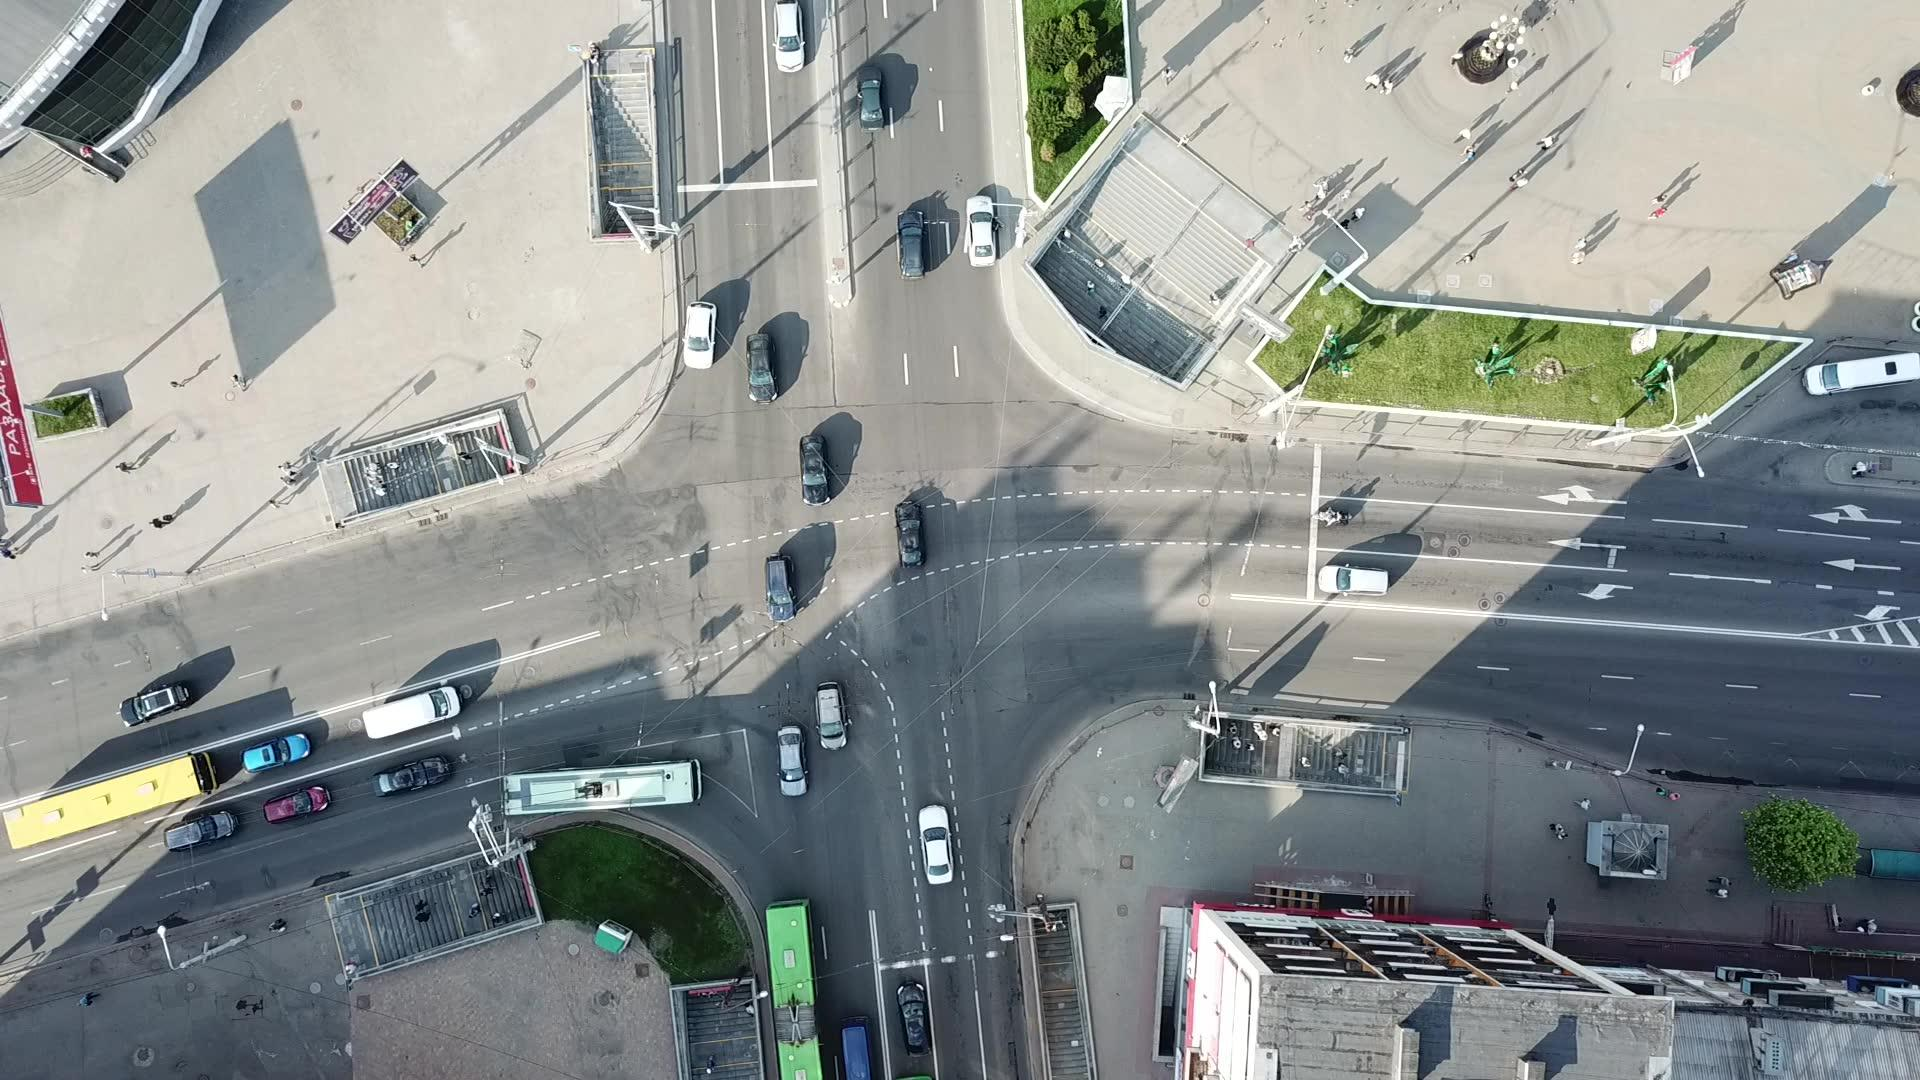car: (371, 756, 455, 798), (117, 680, 190, 727), (894, 980, 936, 1058), (164, 810, 237, 853), (918, 804, 956, 885), (240, 732, 310, 774), (262, 785, 330, 825), (964, 193, 1000, 269), (1317, 560, 1389, 596), (744, 335, 778, 405), (775, 725, 808, 796), (800, 433, 832, 506), (764, 554, 796, 622), (894, 500, 927, 568), (815, 680, 847, 750), (855, 62, 886, 131), (774, 1, 804, 73), (895, 211, 926, 280), (683, 302, 713, 368)
